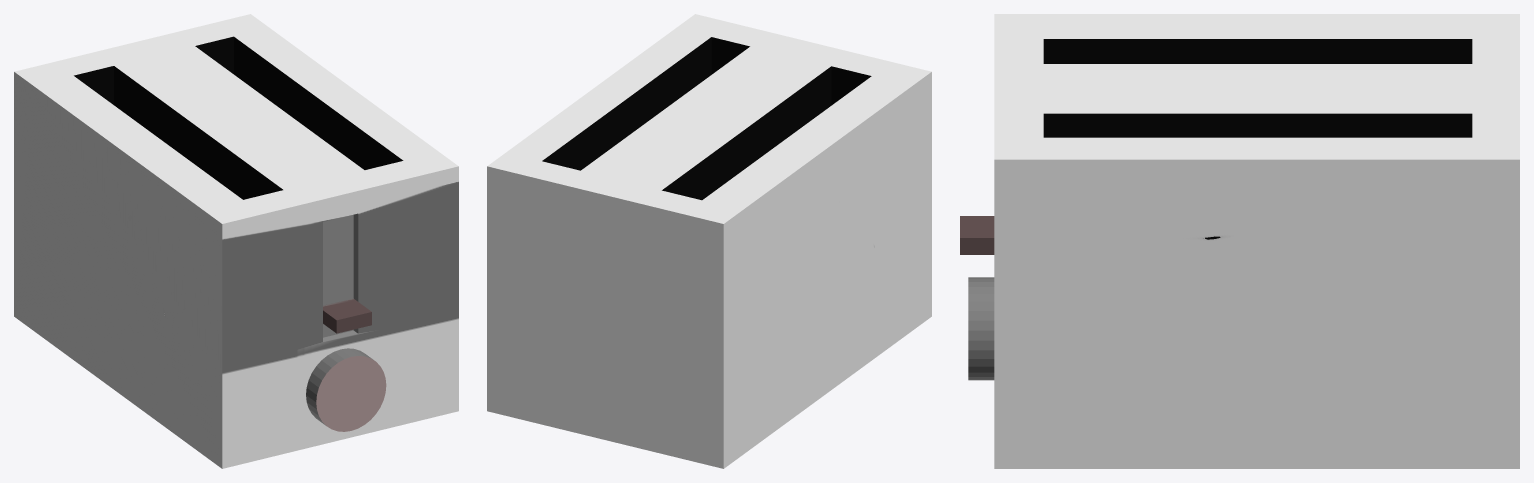
Rendered from Tostada.fbx.
The picture shows the model from 3 angles, left to right: view 1: azimuth 30°, elevation 25°; view 2: azimuth 150°, elevation 25°; view 3: azimuth 270°, elevation 25°; orthographic projection. The views are drawn at different scales.
Visible parts, largest first — view 1: Cube; view 2: Cube; view 3: Cube.
Boxes of the visible parts, x1=… form: Cube: x1=14, y1=14, x2=458, y2=468; Cube: x1=487, y1=14, x2=931, y2=468; Cube: x1=960, y1=14, x2=1519, y2=468.
Bounding box in the file's own units: 231 × 228 × 375.
